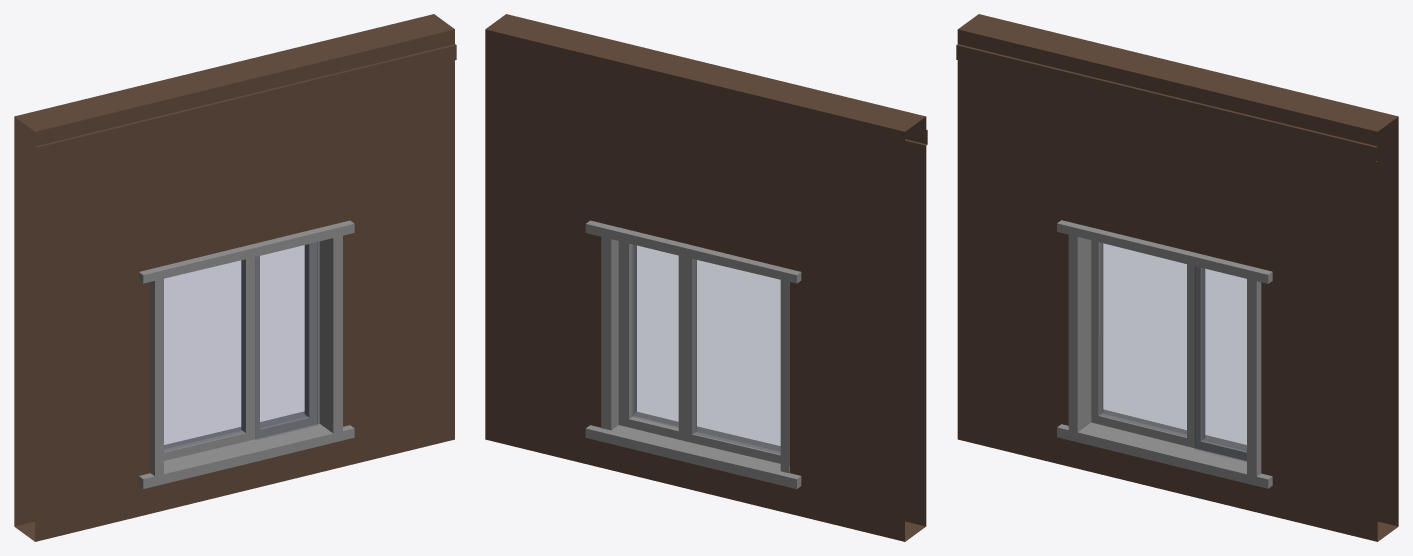
The picture shows the model from 3 angles, left to right: view 1: azimuth 30°, elevation 25°; view 2: azimuth 150°, elevation 25°; view 3: azimuth 330°, elevation 25°; orthographic projection.
Parts seen in each view (by area): view 1: Hub_floor_type_2_013; view 2: Hub_floor_type_2_013; view 3: Hub_floor_type_2_013.
Boxes of the visible parts, bbox=[...] form: Hub_floor_type_2_013: bbox=[14, 14, 456, 541]; Hub_floor_type_2_013: bbox=[485, 14, 927, 541]; Hub_floor_type_2_013: bbox=[956, 14, 1398, 541].
Size of the model in its own units: 300 by 280 by 37.15.
